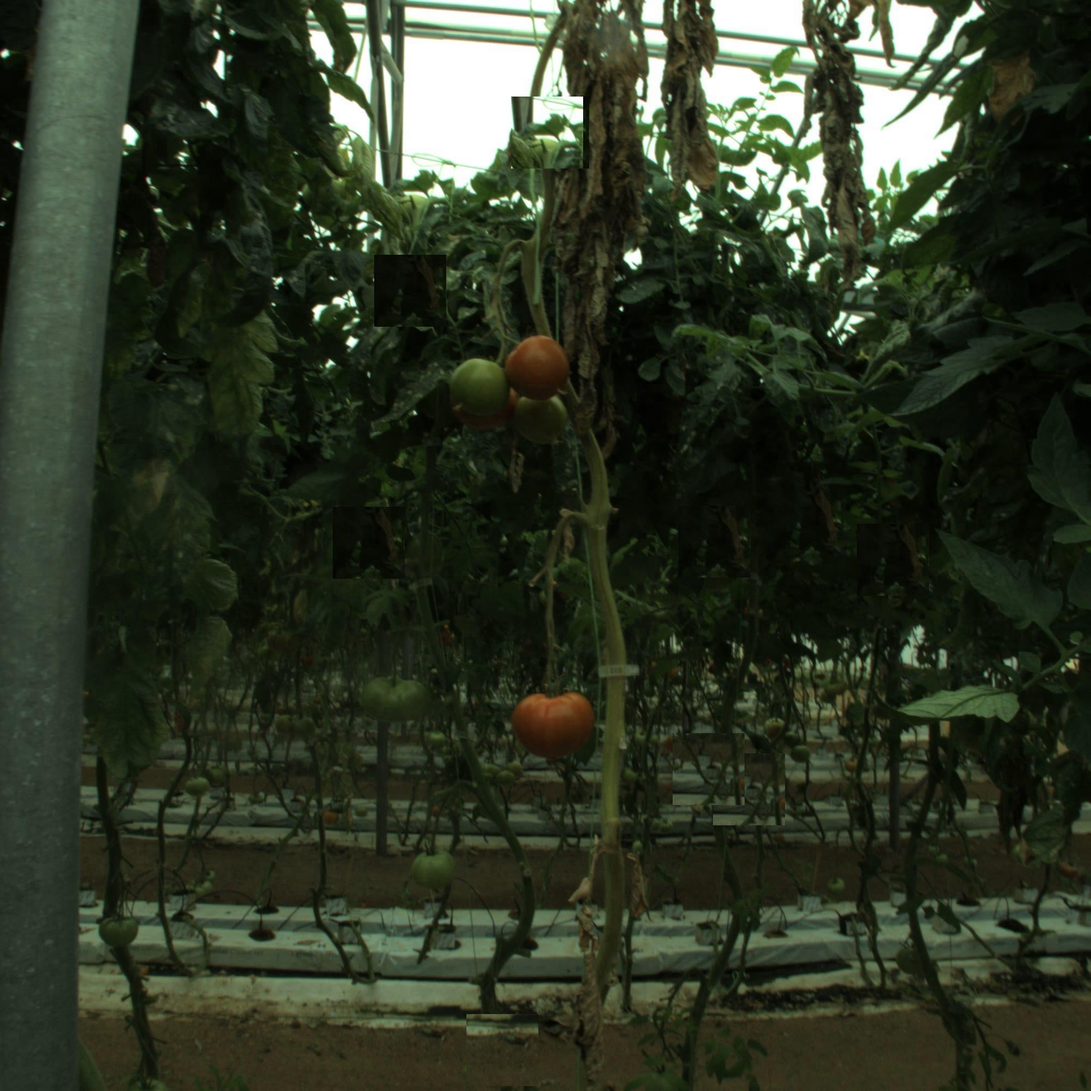fully-ripe: (516, 684, 590, 758), (505, 337, 570, 401)
unripe: (508, 385, 568, 445), (364, 667, 419, 721), (452, 357, 506, 411), (411, 846, 456, 890), (99, 911, 140, 952)
